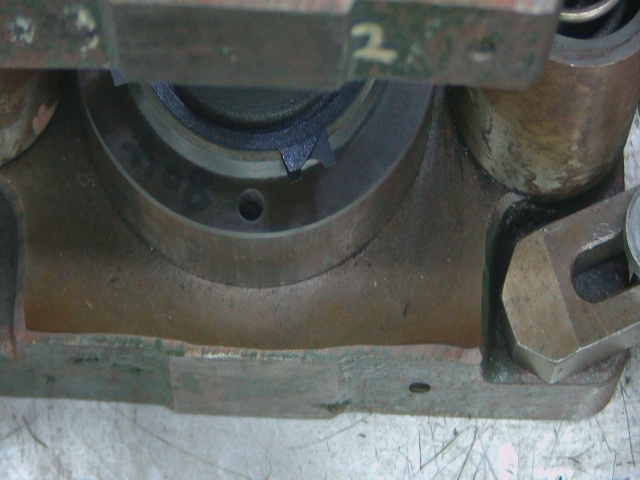NG: (280, 132, 344, 191)
